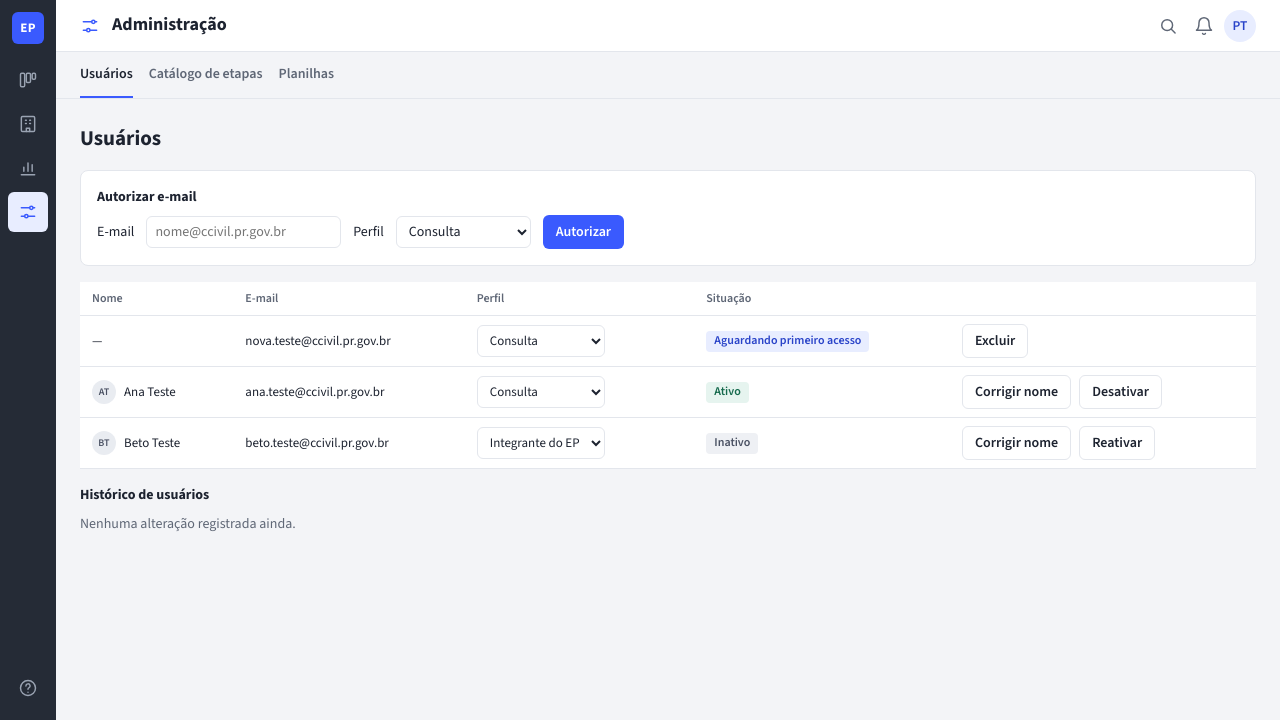
Scenario: trava: mudar o próprio perfil mostra a regra e não grava
Expected: the table is shown, [80, 282, 1256, 469]
Select "Administrador" in the dropdown named "Perfil de ana.teste@ccivil.pr.gov.br". click: (541, 392)
box: [477, 376, 605, 408]
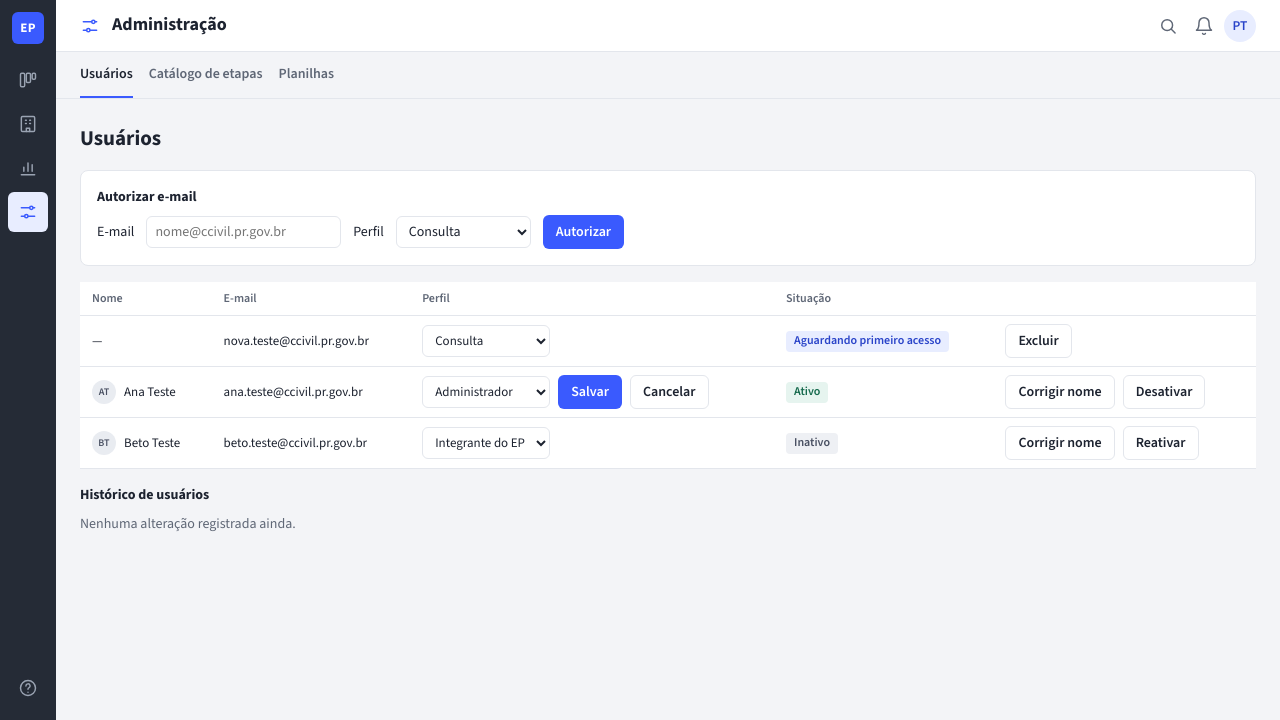
Click the button "Salvar". click: (590, 392)
box: [558, 375, 622, 409]
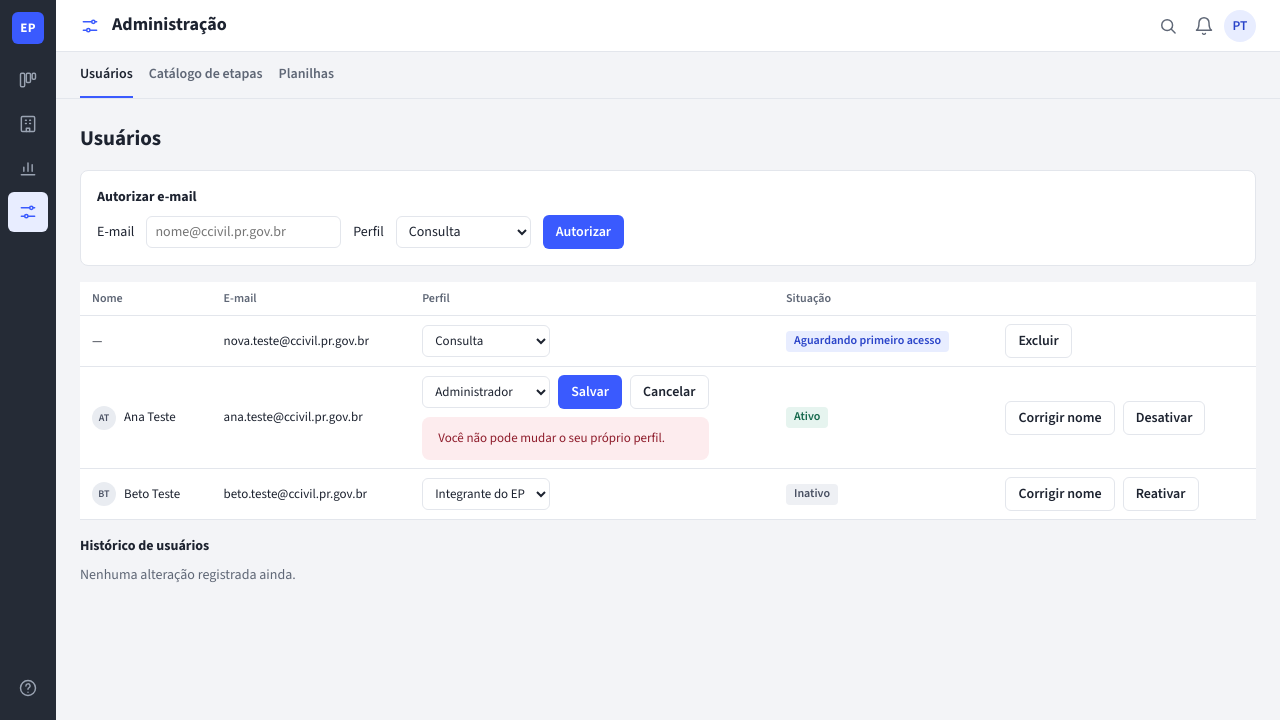
Result: the text "Você não pode mudar o seu próprio perfil." is shown at [422, 417, 708, 460]
